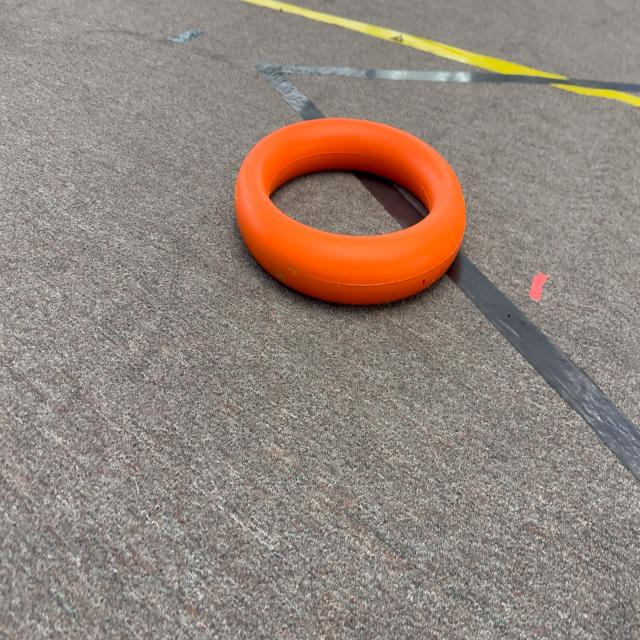note: (229, 107, 473, 316)
